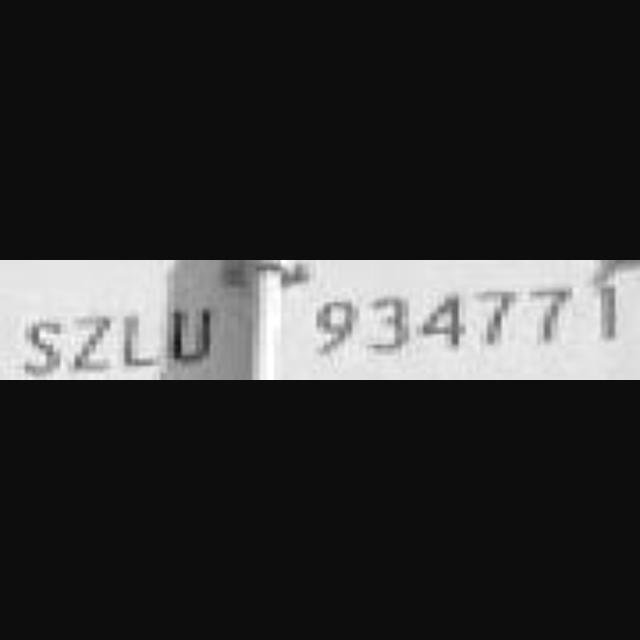1: (586, 272, 630, 352)
3: (361, 289, 414, 371)
4: (414, 280, 470, 362)
7: (468, 281, 526, 355), (526, 280, 576, 348)
9: (310, 289, 362, 369)
l: (121, 308, 165, 380)
s: (22, 314, 72, 381)
u: (169, 300, 217, 380)
z: (71, 310, 121, 380)
